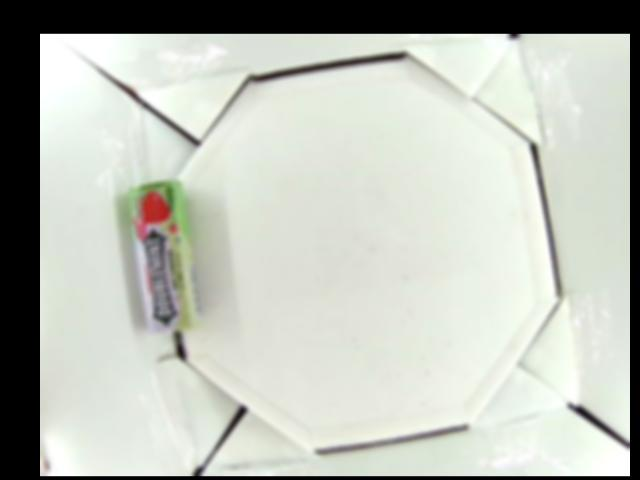Bottle: (130, 178, 201, 335)
